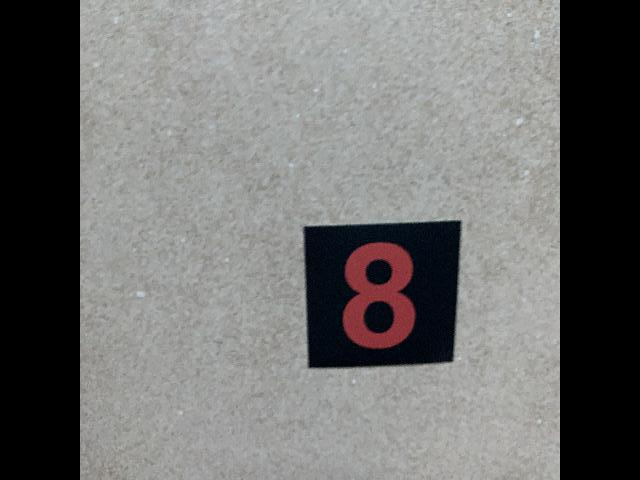eight: (302, 219, 463, 369)
